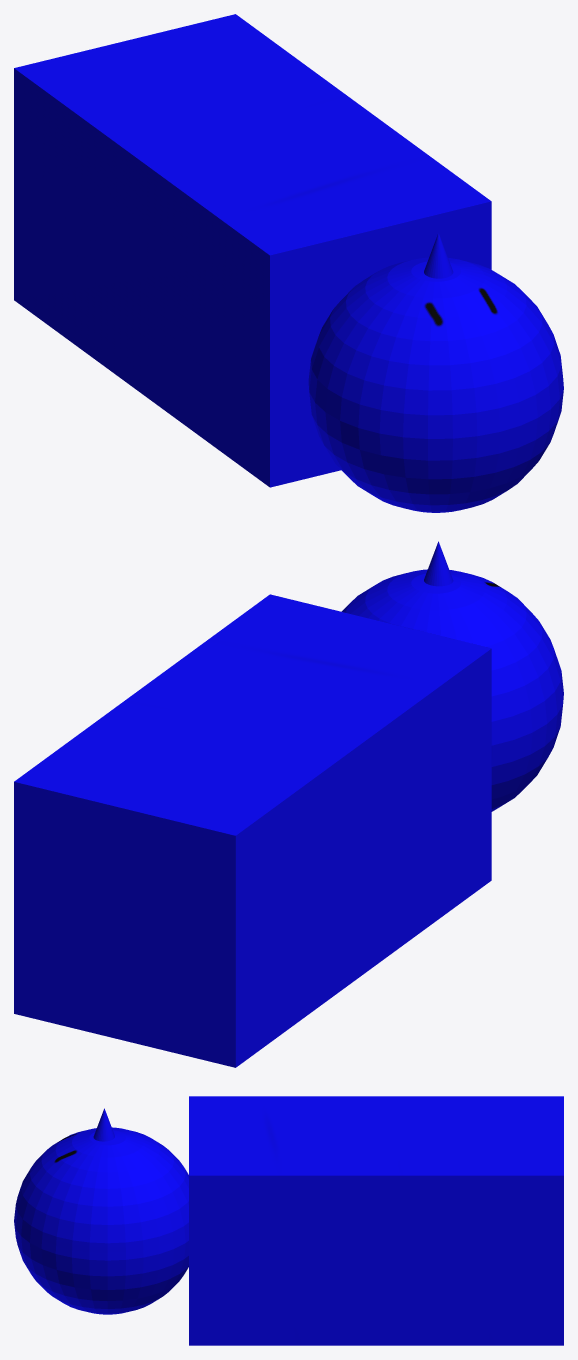
The model's file is human.obj.
The picture shows the model from 3 angles, top to bottom: view 1: azimuth 30°, elevation 25°; view 2: azimuth 150°, elevation 25°; view 3: azimuth 270°, elevation 25°; orthographic projection. The views are drawn at different scales.
Parts seen in each view (by area): view 1: 球; view 2: 球; view 3: 球.
Boxes of the visible parts, x1=… form: 球: x1=14, y1=14, x2=563, y2=512; 球: x1=14, y1=541, x2=563, y2=1067; 球: x1=14, y1=1096, x2=563, y2=1345.
Bounding box in the file's own units: 2 × 2.33 × 5.86.
Materials: 1 (1 with a texture image).
